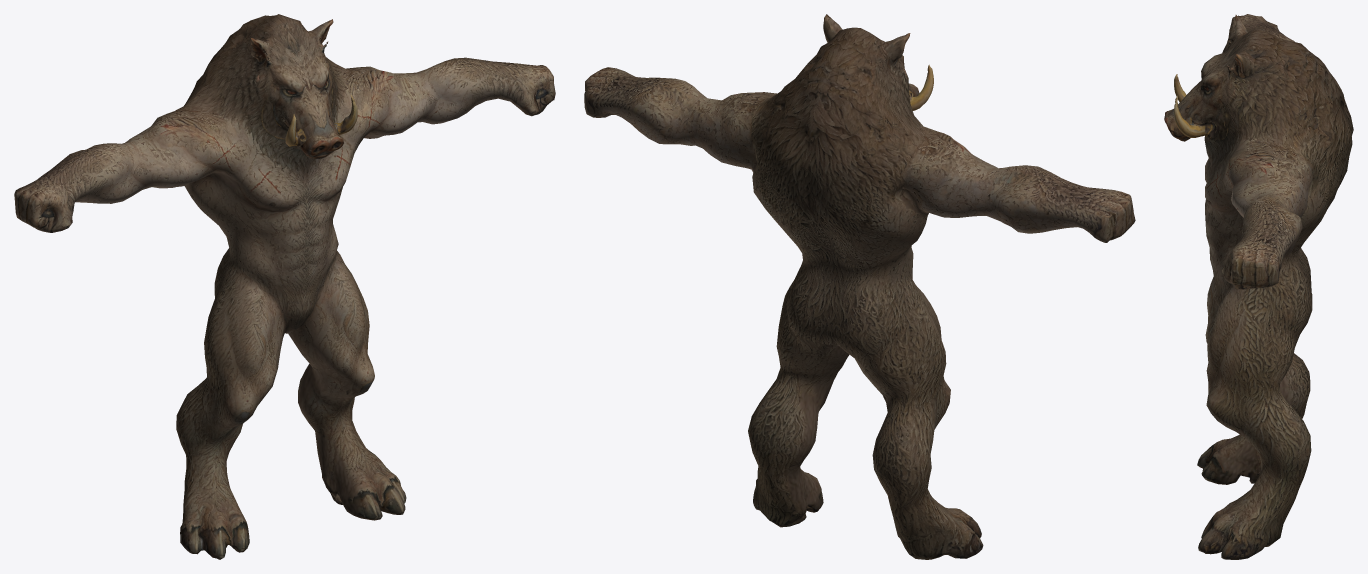
Rendered from Boar_E.fbx.
3 views of the same model, side by side, from view 1: azimuth 30°, elevation 25°; view 2: azimuth 150°, elevation 25°; view 3: azimuth 270°, elevation 25° (orthographic). The views are drawn at different scales.
Parts seen in each view (by area): view 1: Boar_E; view 2: Boar_E; view 3: Boar_E.
Boxes of the visible parts, bbox=[...] form: Boar_E: bbox=[14, 14, 555, 559]; Boar_E: bbox=[584, 14, 1135, 559]; Boar_E: bbox=[1164, 14, 1353, 559].
Size of the model in its own units: 0.9967 by 0.9026 by 0.3225.
1 material, 1 textured.
